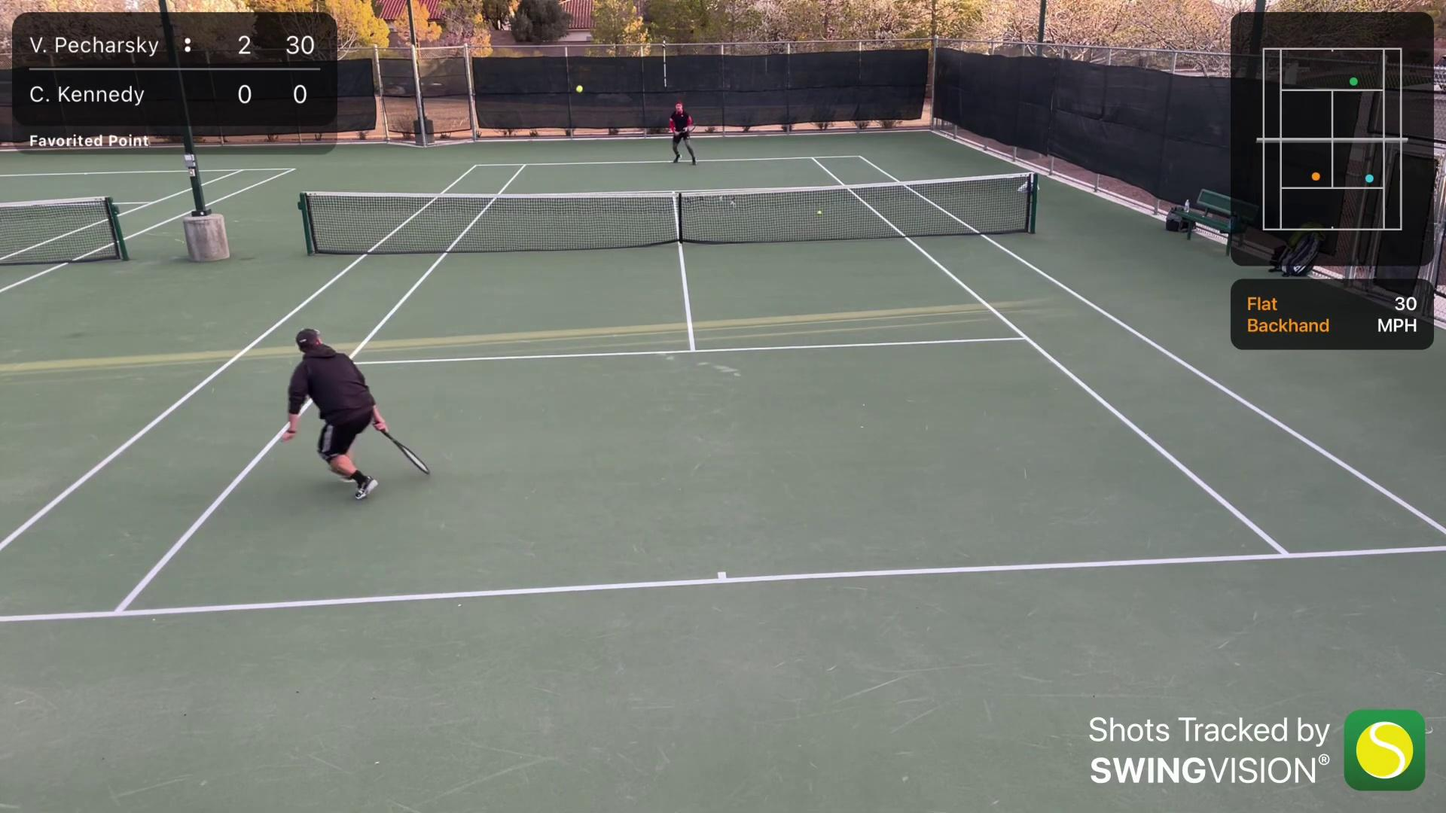ball: (574, 83, 584, 94), (816, 210, 822, 215)
